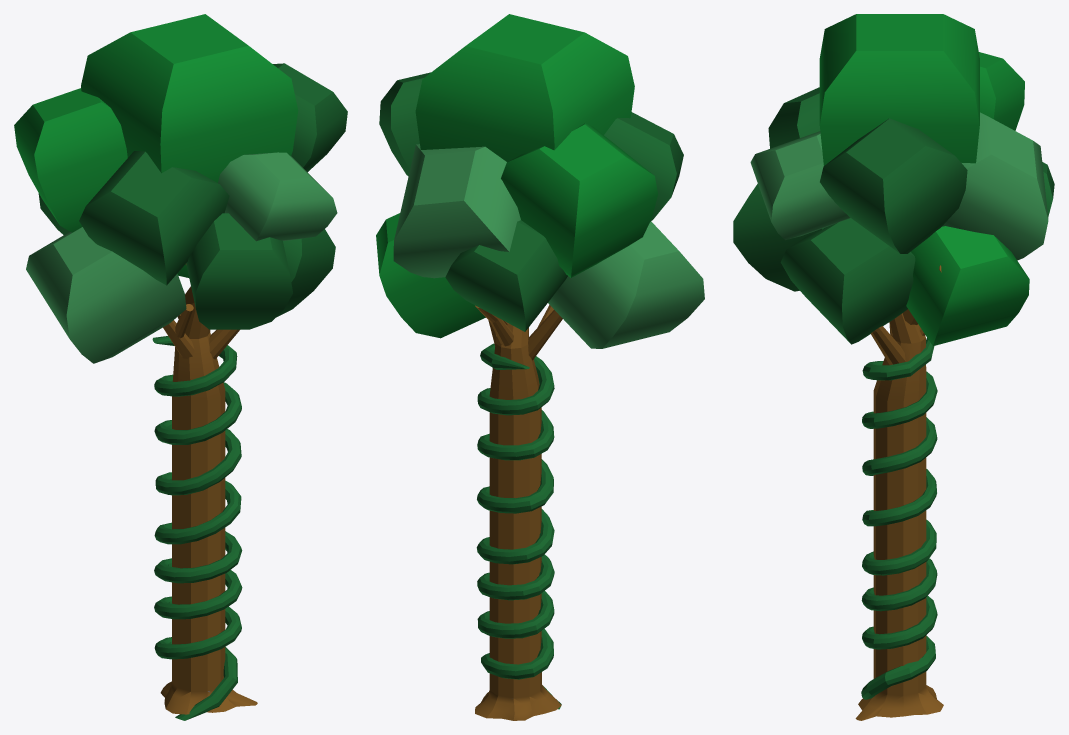
Rendered from tree 1.fbx.
The picture shows the model from 3 angles, left to right: view 1: azimuth 30°, elevation 25°; view 2: azimuth 150°, elevation 25°; view 3: azimuth 270°, elevation 25°; orthographic projection.
Visible parts, largest first — view 1: leaf11, trunk, tuta, leaf1, leaf7, leaf9, leaf4, leaf8, leaf10, leaf3, branch1, branch2; view 2: leaf11, leaf9, trunk, leaf6, leaf1, tuta, leaf5, leaf2, leaf7, leaf10, branch2, branch4; view 3: leaf11, trunk, leaf10, tuta, leaf2, leaf3, leaf6, leaf8, leaf4, leaf9, leaf7, branch1.
Boxes of the visible parts, box(x1,y1,x2,y2) form: leaf11: box(81, 14, 298, 182); trunk: box(160, 302, 257, 714); tuta: box(152, 336, 242, 720); leaf1: box(26, 227, 186, 363); leaf7: box(79, 151, 229, 285); leaf9: box(14, 88, 127, 232); leaf4: box(186, 213, 292, 329); leaf8: box(218, 152, 337, 241); leaf10: box(273, 63, 347, 172); leaf3: box(276, 229, 335, 317); branch1: box(209, 329, 239, 359); branch2: box(163, 320, 194, 358); leaf11: box(415, 14, 634, 161); leaf9: box(501, 123, 657, 277); trunk: box(475, 323, 561, 720); leaf6: box(393, 144, 520, 278); leaf1: box(548, 221, 704, 348); tuta: box(476, 343, 561, 709); leaf5: box(445, 220, 567, 331); leaf2: box(376, 213, 485, 338); leaf7: box(604, 112, 683, 221); leaf10: box(379, 72, 430, 176); branch2: box(528, 310, 562, 360); branch4: box(475, 305, 513, 346); leaf11: box(819, 14, 979, 165); trunk: box(855, 313, 943, 720); leaf10: box(820, 118, 967, 253); tuta: box(861, 338, 937, 699); leaf2: box(906, 226, 1029, 345); leaf3: box(780, 218, 915, 344); leaf6: box(942, 112, 1048, 260); leaf8: box(750, 131, 850, 240); leaf4: box(733, 183, 823, 291); leaf9: box(979, 52, 1024, 130); leaf7: box(768, 87, 820, 148); branch1: box(870, 326, 905, 364).
Bounding box in the file's own units: 2722 × 5759 × 2507.
